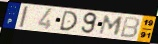4: (37, 8, 54, 32)
9: (79, 12, 99, 35)
B: (119, 16, 141, 39)
D: (58, 10, 79, 32)
I: (18, 5, 30, 28)
M: (98, 14, 125, 37)
